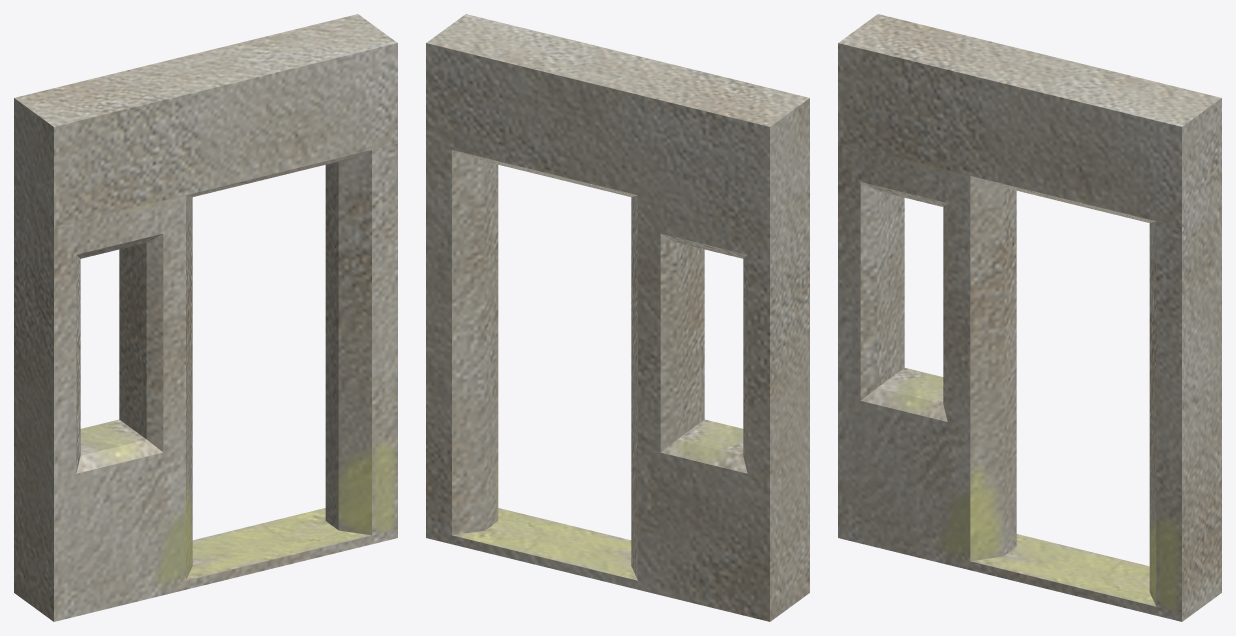
File: DoorSingleAndWindow.fbx
3 renders of one model, left to right at view 1: azimuth 30°, elevation 25°; view 2: azimuth 150°, elevation 25°; view 3: azimuth 330°, elevation 25°, orthographic.
Visible parts, largest first — view 1: Wall_2m75; view 2: Wall_2m75; view 3: Wall_2m75.
Part boxes in pixels (<box>): Wall_2m75: <box>14,14,397,621</box>; Wall_2m75: <box>426,14,809,621</box>; Wall_2m75: <box>838,14,1221,621</box>.
Bounding box in the file's own units: 200 × 275 × 40.
Materials: 1 (1 with a texture image).
